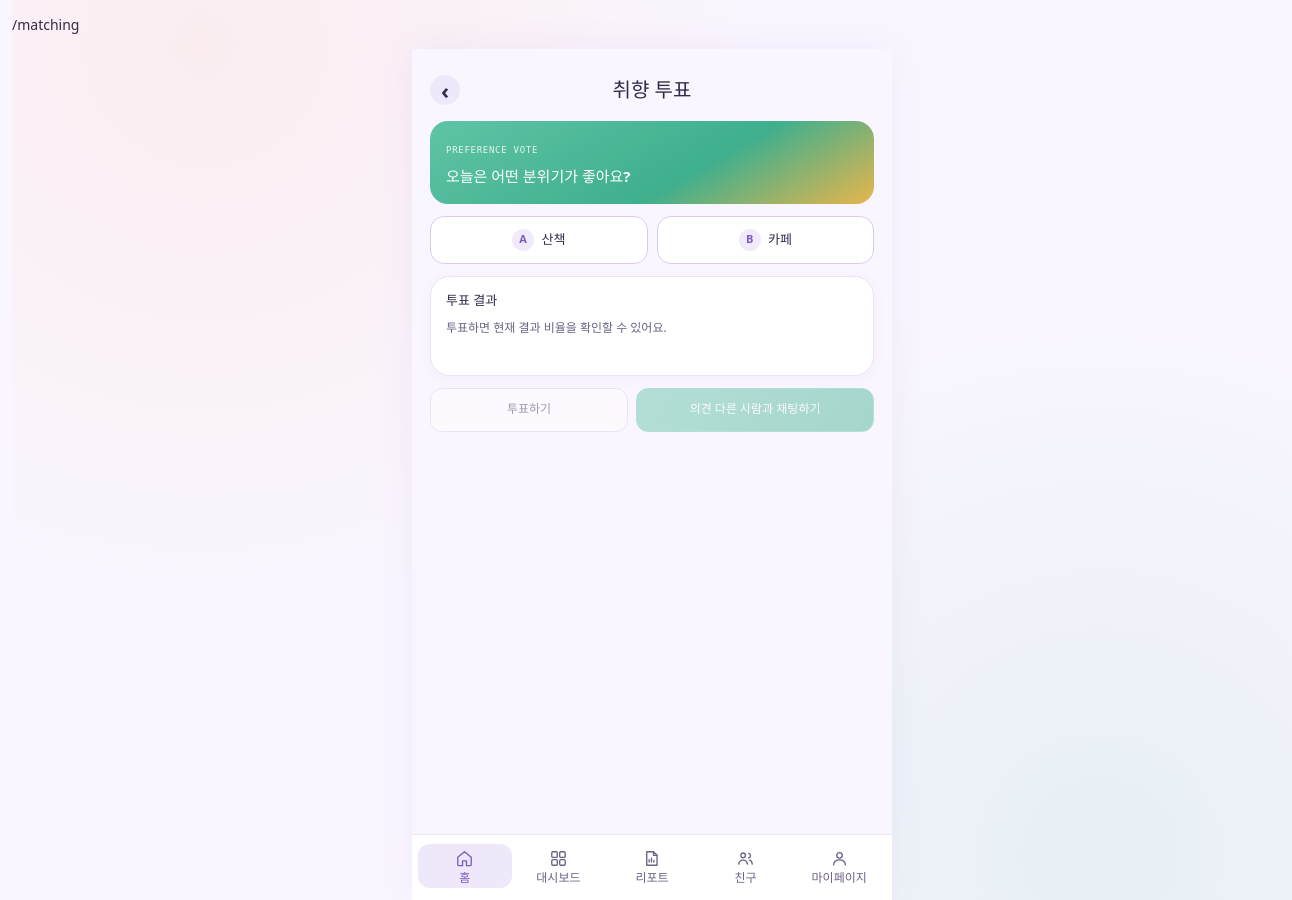
Test: MatchingPage › submits the selected answer and retains its returned voteAnswerId and result
The width and height of the screenshot is (1292, 900).
Click the button "B 카페": (765, 240) [656,216,874,264]
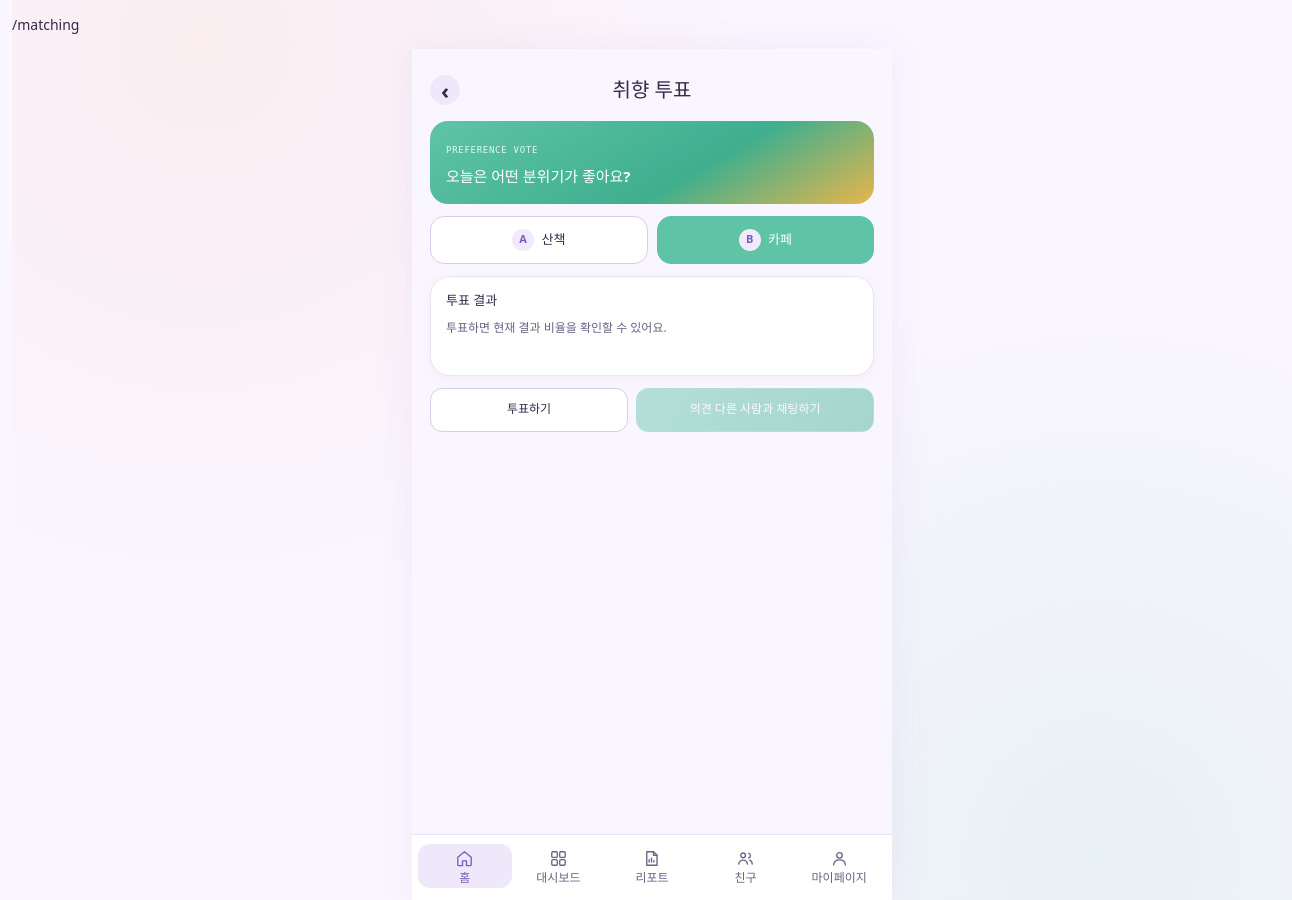
Click the button "투표하기": (529, 410) [430,388,628,432]
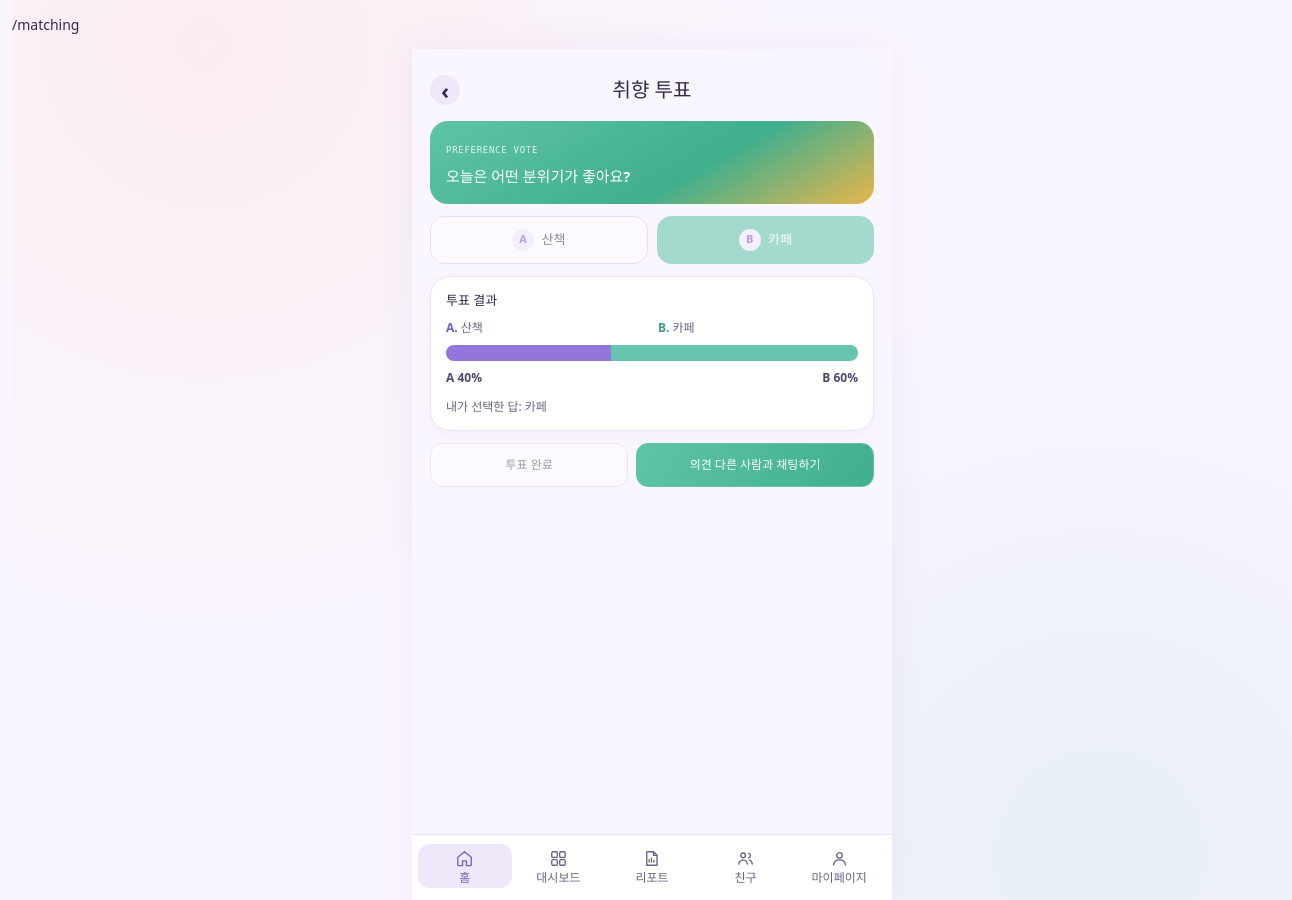
expect the picture named "투표 결과: A 40%, B 60%" is shown: met, box [446,345,858,361]
expect the button "의견 다른 사람과 채팅하기" is enabled: met, box [636,443,874,487]
